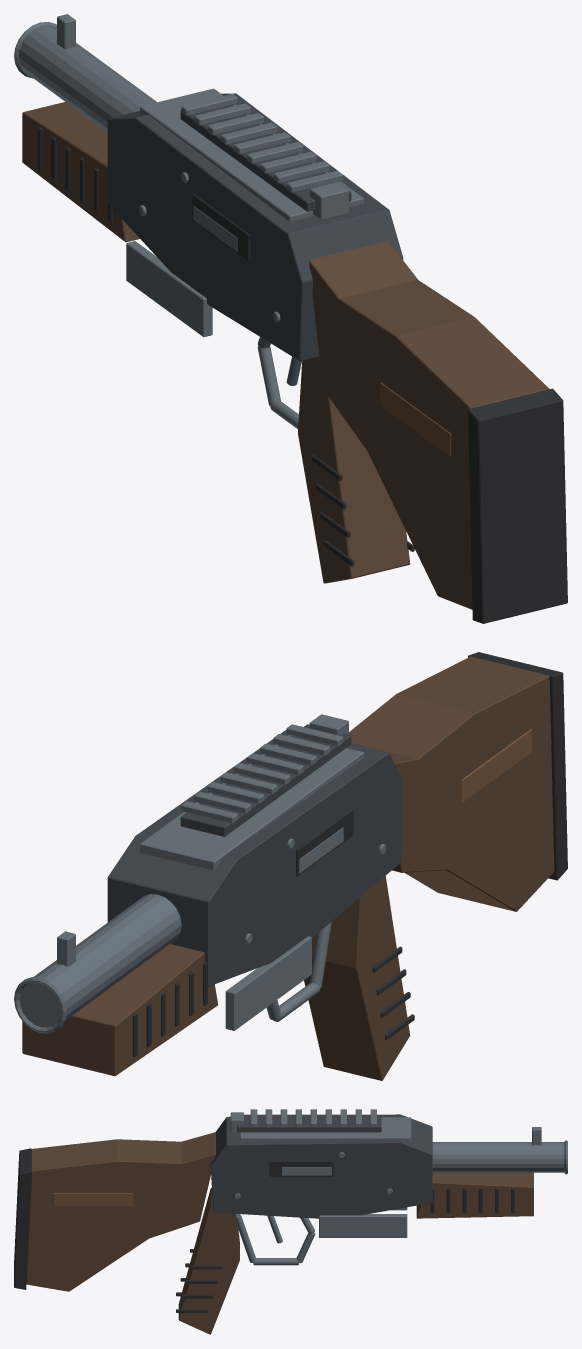
The model's file is Firearm_804.fbx.
3 renders of one model, top to bottom at view 1: azimuth 30°, elevation 25°; view 2: azimuth 150°, elevation 25°; view 3: azimuth 270°, elevation 25°, orthographic. The views are drawn at different scales.
Parts seen in each view (by area): view 1: Firearm_804; view 2: Firearm_804; view 3: Firearm_804.
Boxes of the visible parts, <box> form: Firearm_804: <box>14,14,567,623</box>; Firearm_804: <box>14,652,567,1080</box>; Firearm_804: <box>14,1109,567,1334</box>.
Size of the model in its own units: 0.134 by 0.4346 by 1.04.
